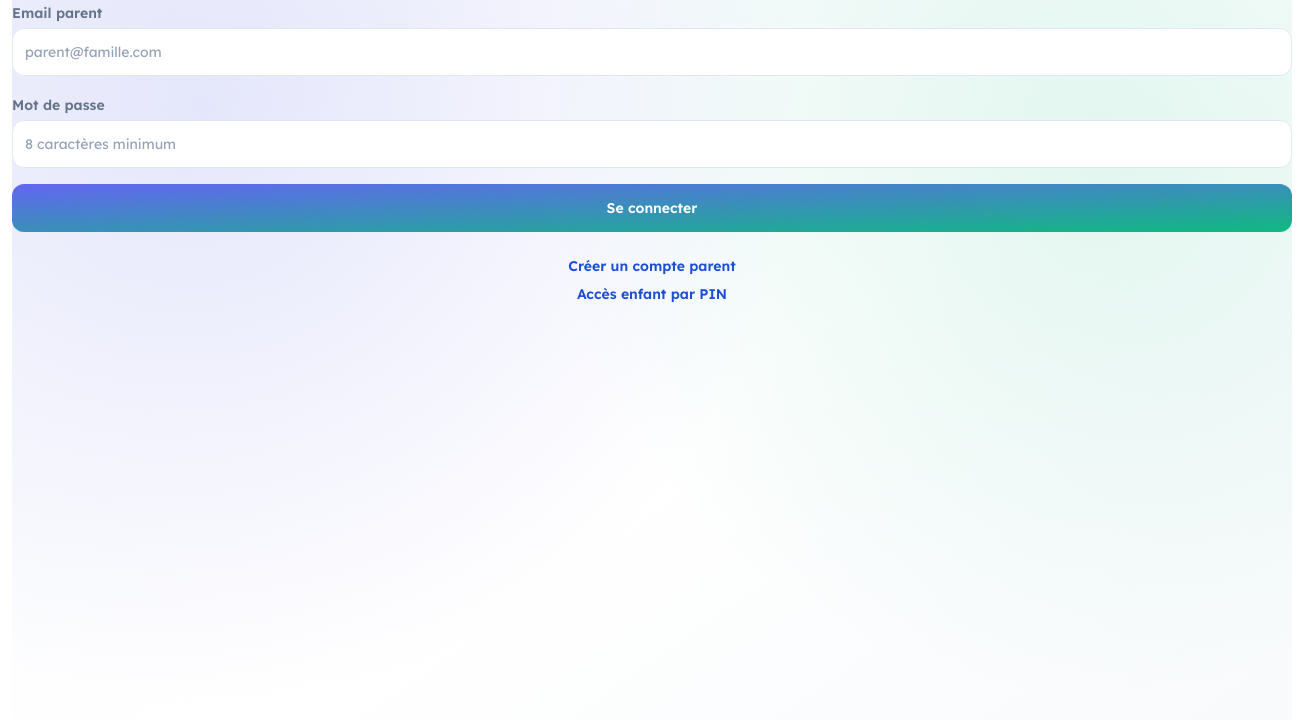
Test case: Auth form validation › shows validation errors on empty login submit
Click the button "Se connecter".
click(652, 208)  # box [12,184,1292,232]
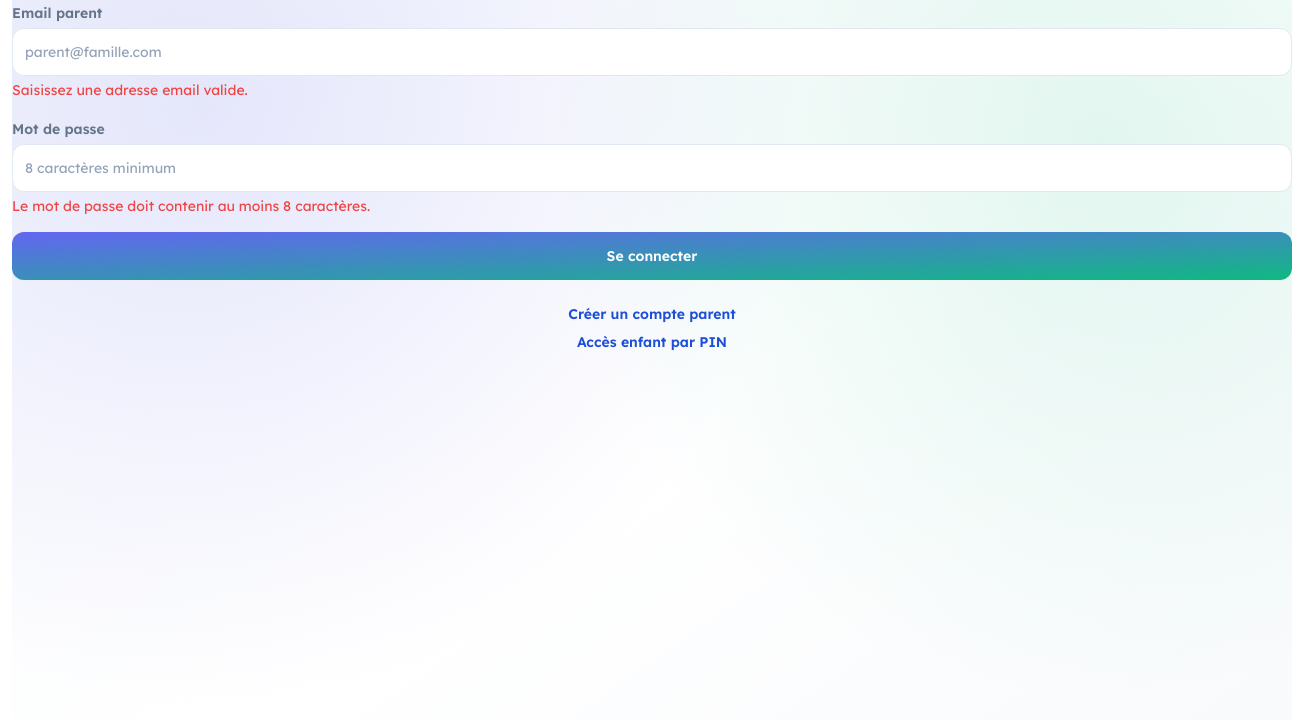
Expected: the text "Saisissez une adresse email valide." is shown, [12,81,248,99]
Expected: the text "Le mot de passe doit contenir au moins 8 caractères." is shown, [12,197,370,215]
